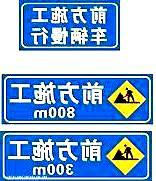sign: (3, 75, 151, 123), (2, 132, 150, 179), (21, 2, 118, 48)
